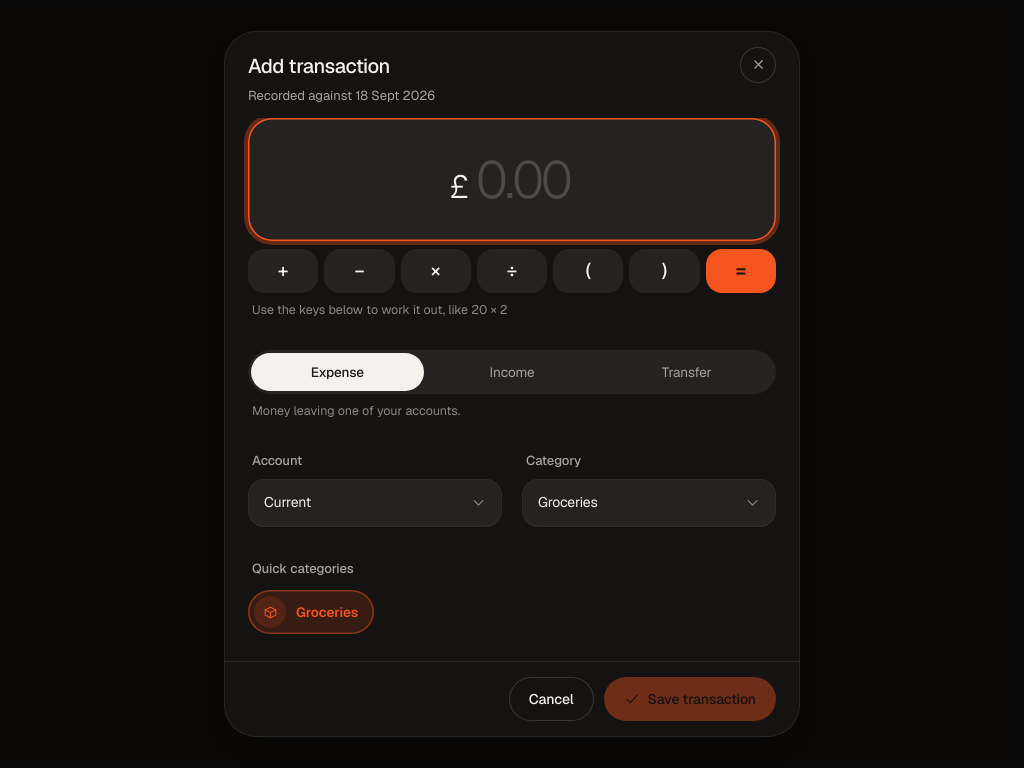
the transaction type › explains what a transfer does to Safe to Spend, which is the surprising one
The image size is (1024, 768).
Expected: the text "Money leaving one of your accounts." is shown, [252,402,460,419]
Click the radio button labelled "Transfer".
click(687, 372)  # box [600,353,773,391]
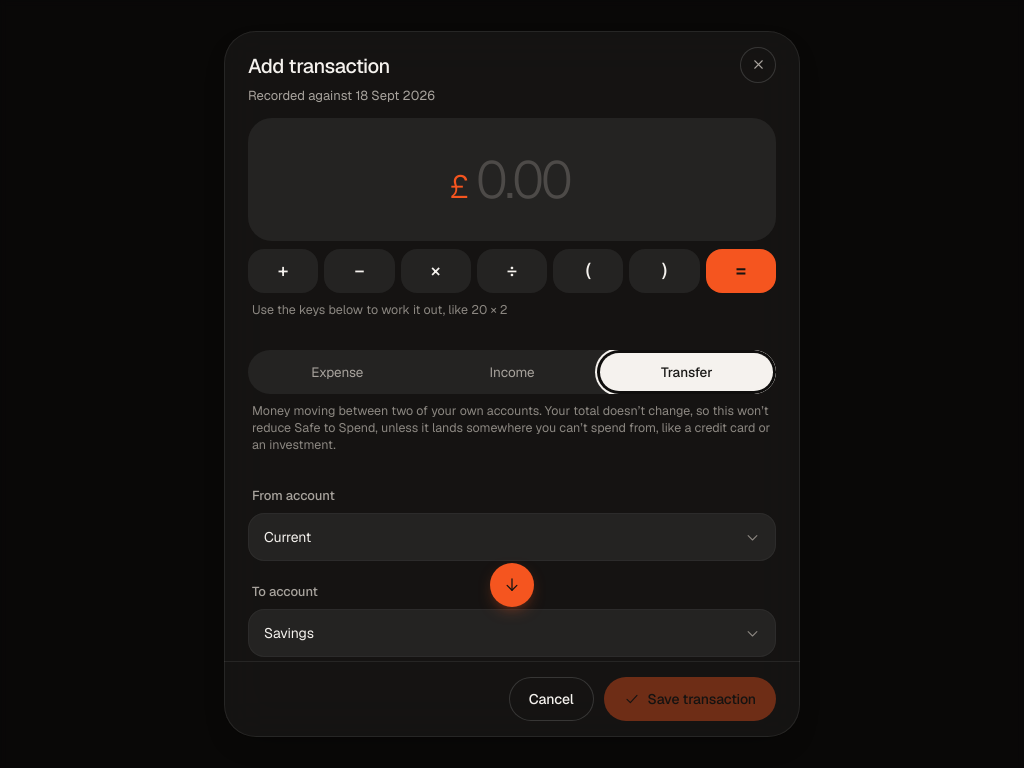
Now the text "won.t reduce Safe to Spend" is shown, box [252,402,770,453]
